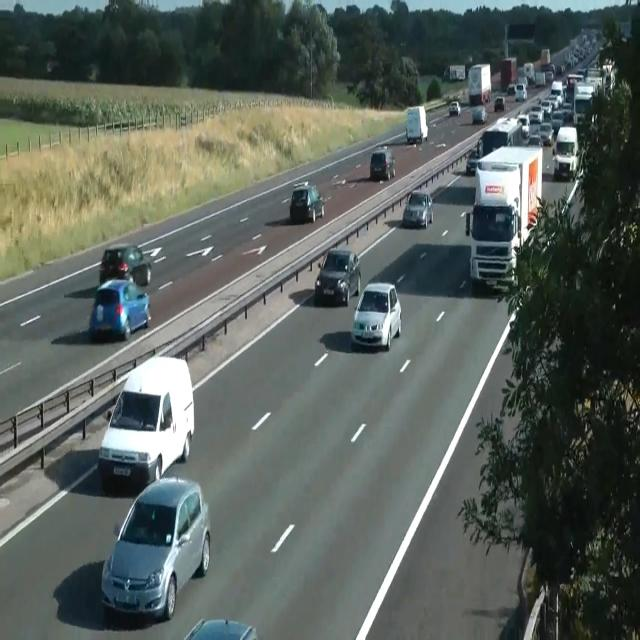bus: (184, 617, 258, 639), (289, 181, 325, 223), (403, 190, 433, 228), (369, 150, 395, 182), (538, 122, 554, 146), (466, 149, 480, 175), (516, 113, 530, 139), (472, 105, 488, 124), (528, 105, 544, 123), (566, 73, 584, 88), (448, 100, 461, 116), (494, 96, 506, 112), (506, 83, 516, 95), (544, 70, 554, 82)
jeep: (100, 475, 211, 621), (97, 354, 195, 487), (89, 278, 151, 342), (351, 281, 402, 350), (315, 247, 361, 306), (98, 243, 152, 286), (552, 125, 579, 179)
minibus: (465, 144, 543, 292), (466, 116, 524, 175), (468, 63, 492, 106), (573, 83, 595, 125), (406, 105, 428, 144), (500, 57, 518, 91), (442, 64, 466, 83)
